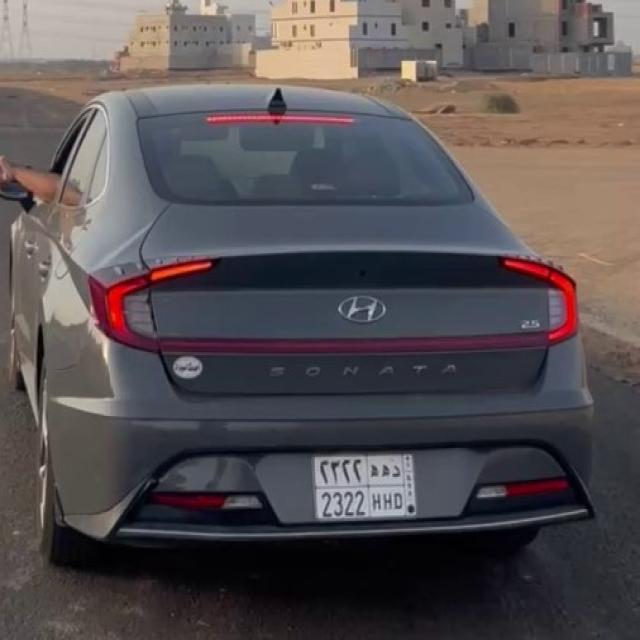Car-plate: (313, 440, 430, 530)
